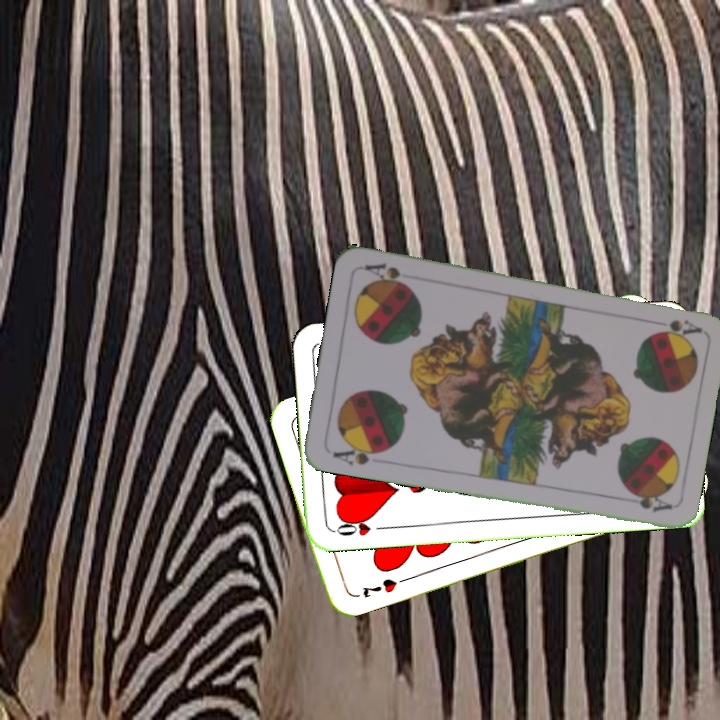H7: (358, 574, 400, 601)
HO: (330, 513, 389, 539)
SA: (329, 439, 388, 468), (660, 315, 703, 337)
